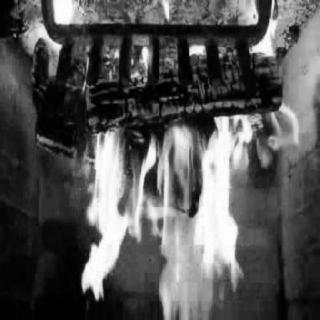Fire: (23, 7, 316, 319)
